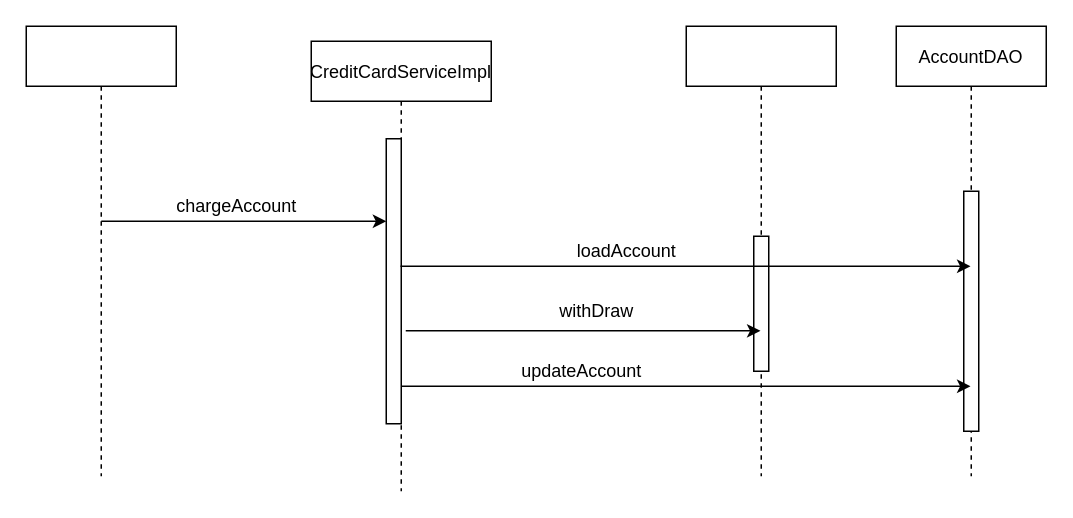
The diagram is 1073 pixels wide and 518 high, and some of its shapes have lost their labels. Each missing label, with the box of its shape:
Account: (685, 25, 836, 476)
Application: (25, 25, 176, 476)
